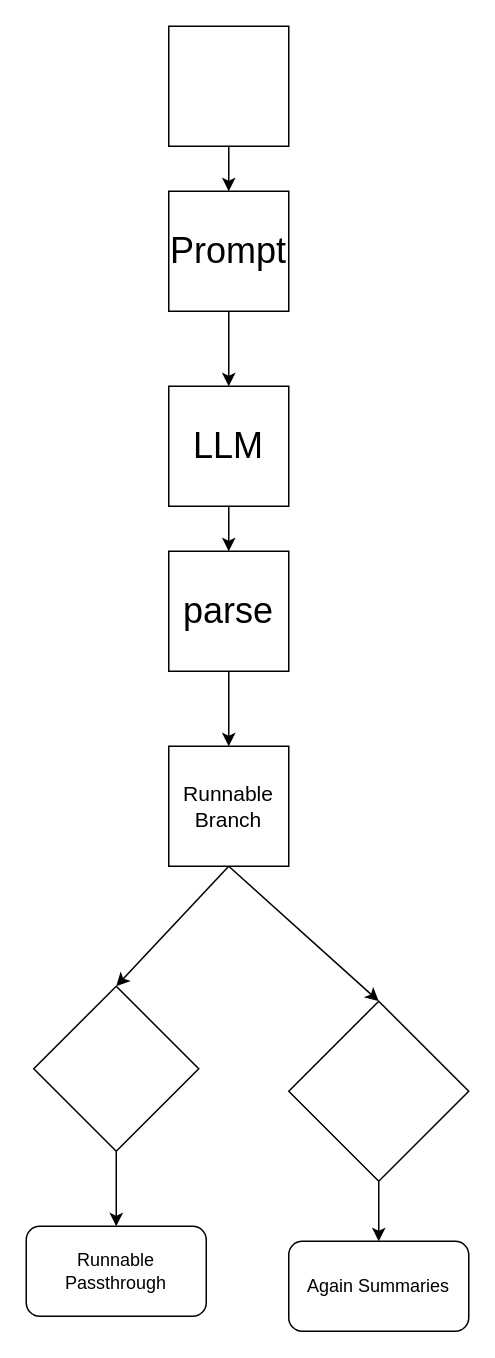
This 495x1358 diagram has some shape labels left out. The box of each missing label's shape, as (x1, y1, x2, y2) in pixels:
Greator than 500 words: (287, 1000, 469, 1181)
Less than 500 Words: (32, 985, 199, 1151)
Topic: (167, 25, 289, 146)
